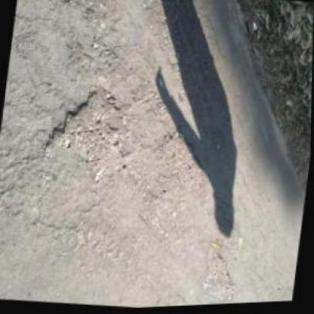Hueco: (39, 80, 135, 189), (152, 128, 214, 206), (201, 251, 240, 306)
